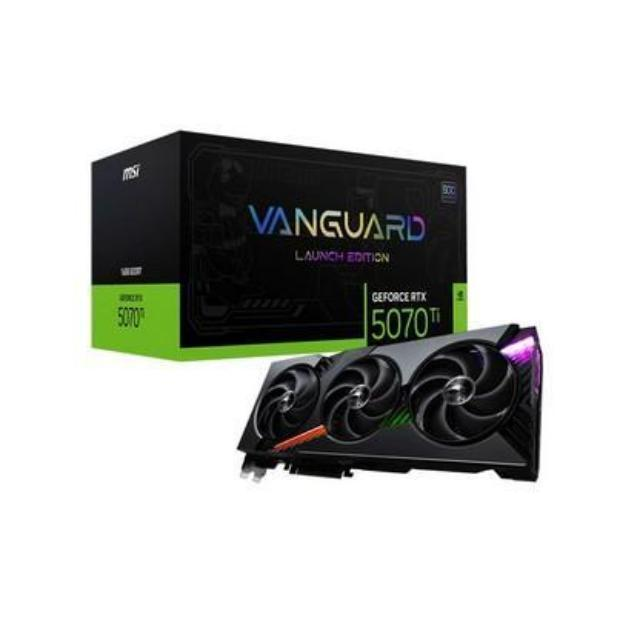GPU: (232, 318, 560, 502)
